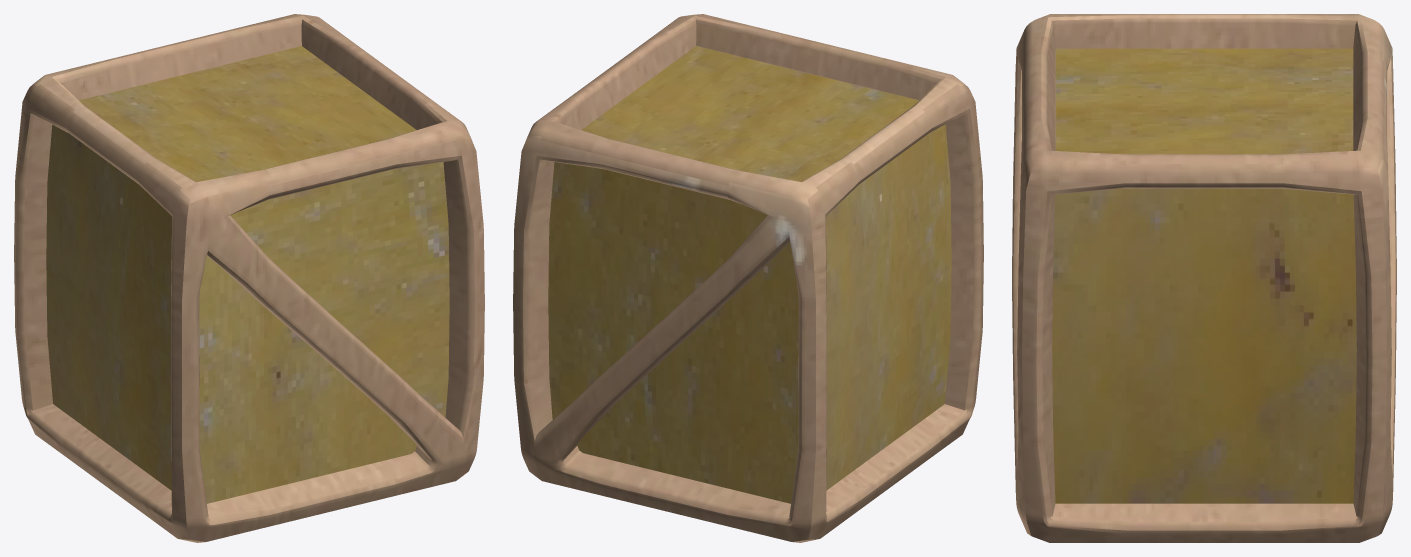
The model's file is Crates.fbx.
3 views of the same model, side by side, from view 1: azimuth 30°, elevation 25°; view 2: azimuth 150°, elevation 25°; view 3: azimuth 270°, elevation 25° (orthographic). The views are drawn at different scales.
Parts seen in each view (by area): view 1: pCube1; view 2: pCube1; view 3: pCube1.
Part boxes in pixels (<box>): pCube1: <box>14,14,484,542</box>; pCube1: <box>513,14,983,542</box>; pCube1: <box>1012,14,1396,542</box>.
Bounding box in the file's own units: 0.9614 × 1.07 × 0.9492.
